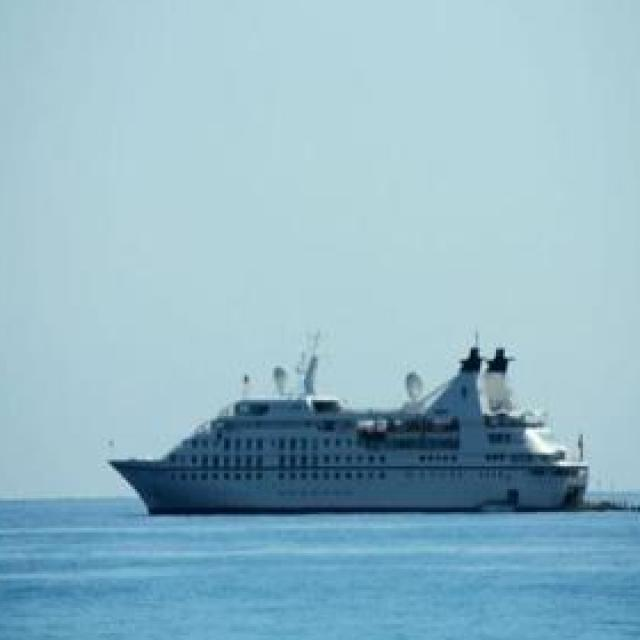passenger ship: (115, 339, 602, 517)
